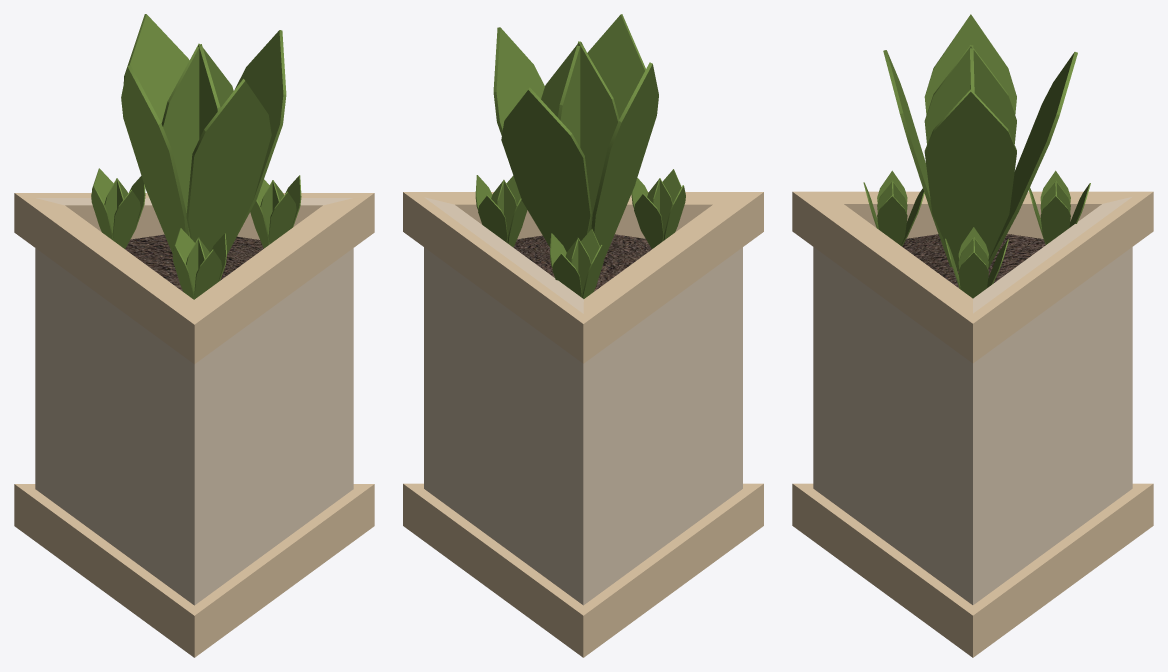
Rendered from Plant 03.fbx.
3 renders of one model, left to right at view 1: azimuth 30°, elevation 25°; view 2: azimuth 150°, elevation 25°; view 3: azimuth 270°, elevation 25°, orthographic.
Parts seen in each view (by area): view 1: pCylinder2, pCube18, pCube20, pCube19, pDisc4, pCube21; view 2: pCylinder2, pCube18, pCube19, pCube20, pCube21, pDisc4; view 3: pCylinder2, pCube18, pDisc4, pCube19, pCube21, pCube20.
Boxes of the visible parts, x1,y1,x2,y2 form: pCylinder2: [14, 193, 374, 657]; pCube18: [121, 14, 286, 254]; pCube20: [91, 168, 145, 248]; pCube19: [172, 228, 226, 299]; pDisc4: [125, 234, 263, 291]; pCube21: [250, 175, 301, 248]; pCylinder2: [403, 192, 763, 657]; pCube18: [493, 14, 658, 258]; pCube19: [631, 169, 685, 248]; pCube20: [550, 229, 604, 298]; pCube21: [475, 175, 527, 247]; pDisc4: [513, 234, 651, 291]; pCylinder2: [792, 191, 1153, 657]; pCube18: [883, 14, 1077, 271]; pDisc4: [902, 234, 1045, 288]; pCube19: [863, 170, 924, 246]; pCube21: [945, 227, 1008, 298]; pCube20: [1029, 170, 1090, 244].
Size of the model in its own units: 4.47 by 8.31 by 5.16.
Materials: 4 (1 with a texture image).
